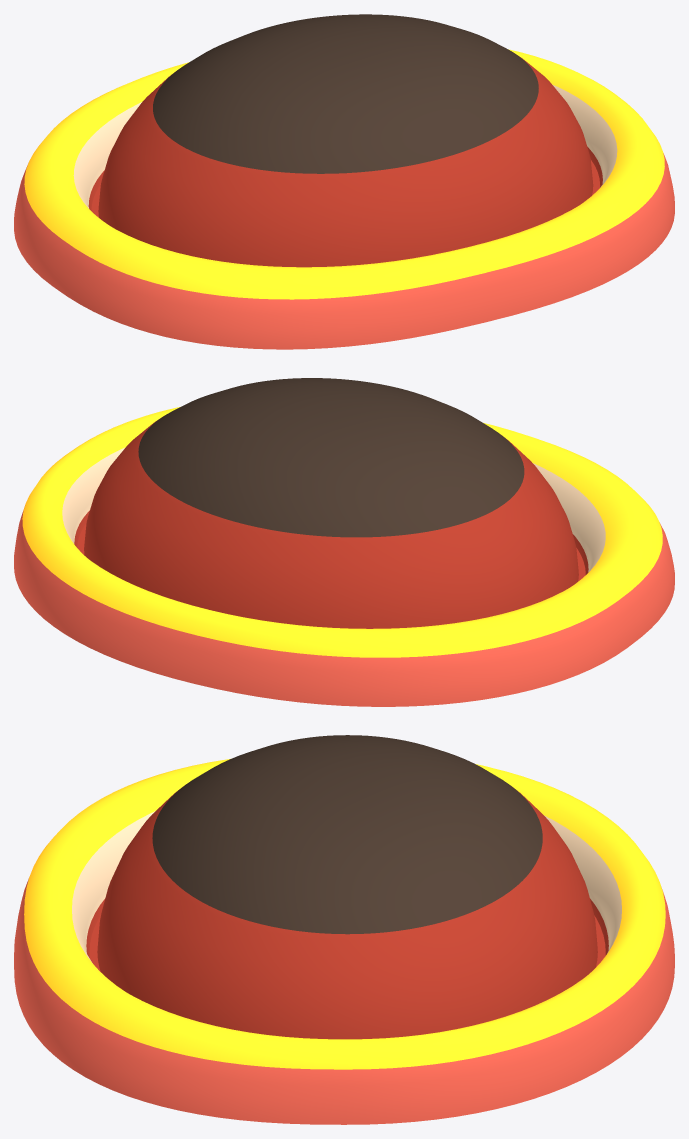
The model's file is dome_red_131.glb.
The picture shows the model from 3 angles, top to bottom: view 1: azimuth 30°, elevation 25°; view 2: azimuth 150°, elevation 25°; view 3: azimuth 270°, elevation 25°; orthographic projection. The views are drawn at different scales.
Visible parts, largest first — view 1: dome_red_131; view 2: dome_red_131; view 3: dome_red_131.
Part boxes in pixels (box(x1,y1,x2,y2)): dome_red_131: box(14, 14, 674, 349); dome_red_131: box(14, 378, 674, 706); dome_red_131: box(14, 735, 674, 1124).
Bounding box in the file's own units: 24 × 6.6 × 21.
